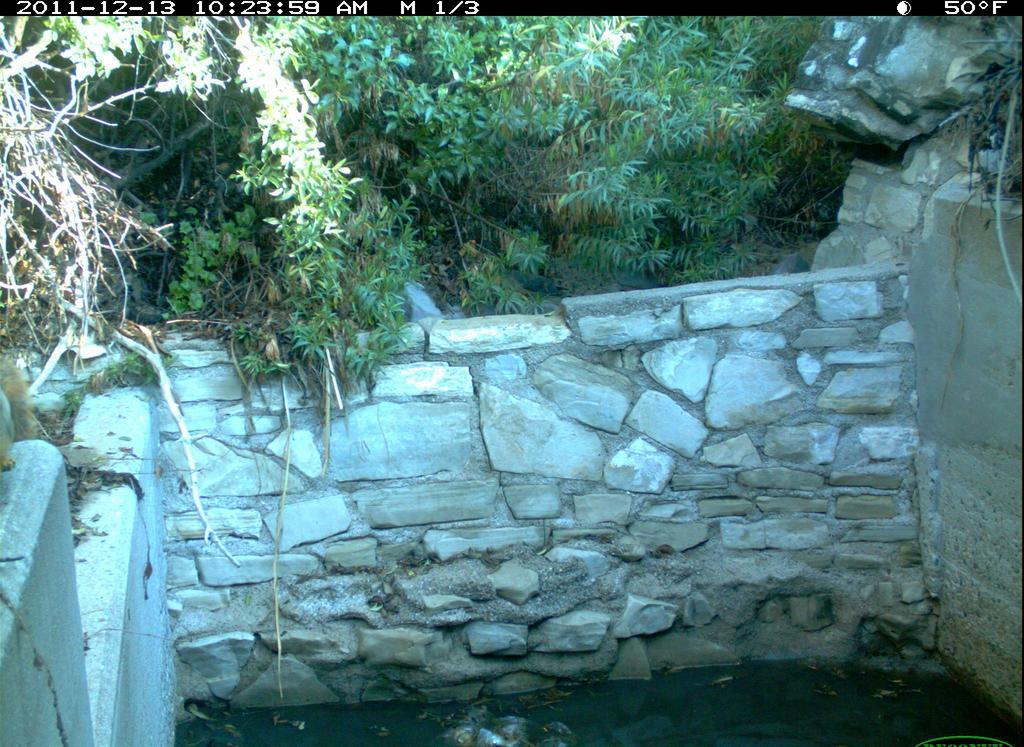squirrel: (1, 342, 44, 482)
